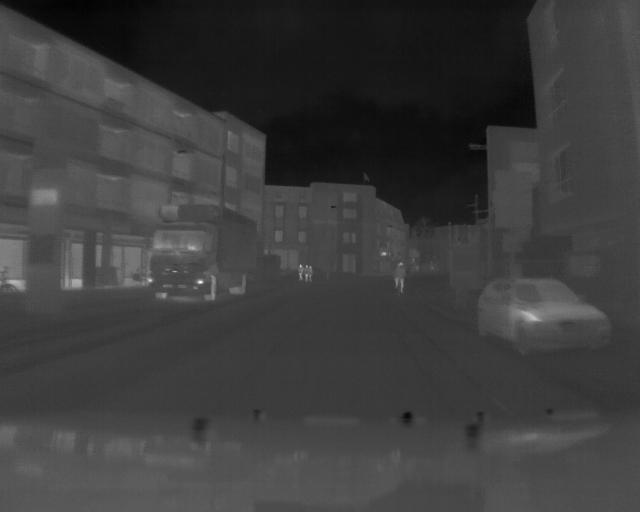car: (149, 205, 267, 304), (476, 276, 615, 356)
person: (394, 260, 407, 296), (296, 262, 306, 283)
